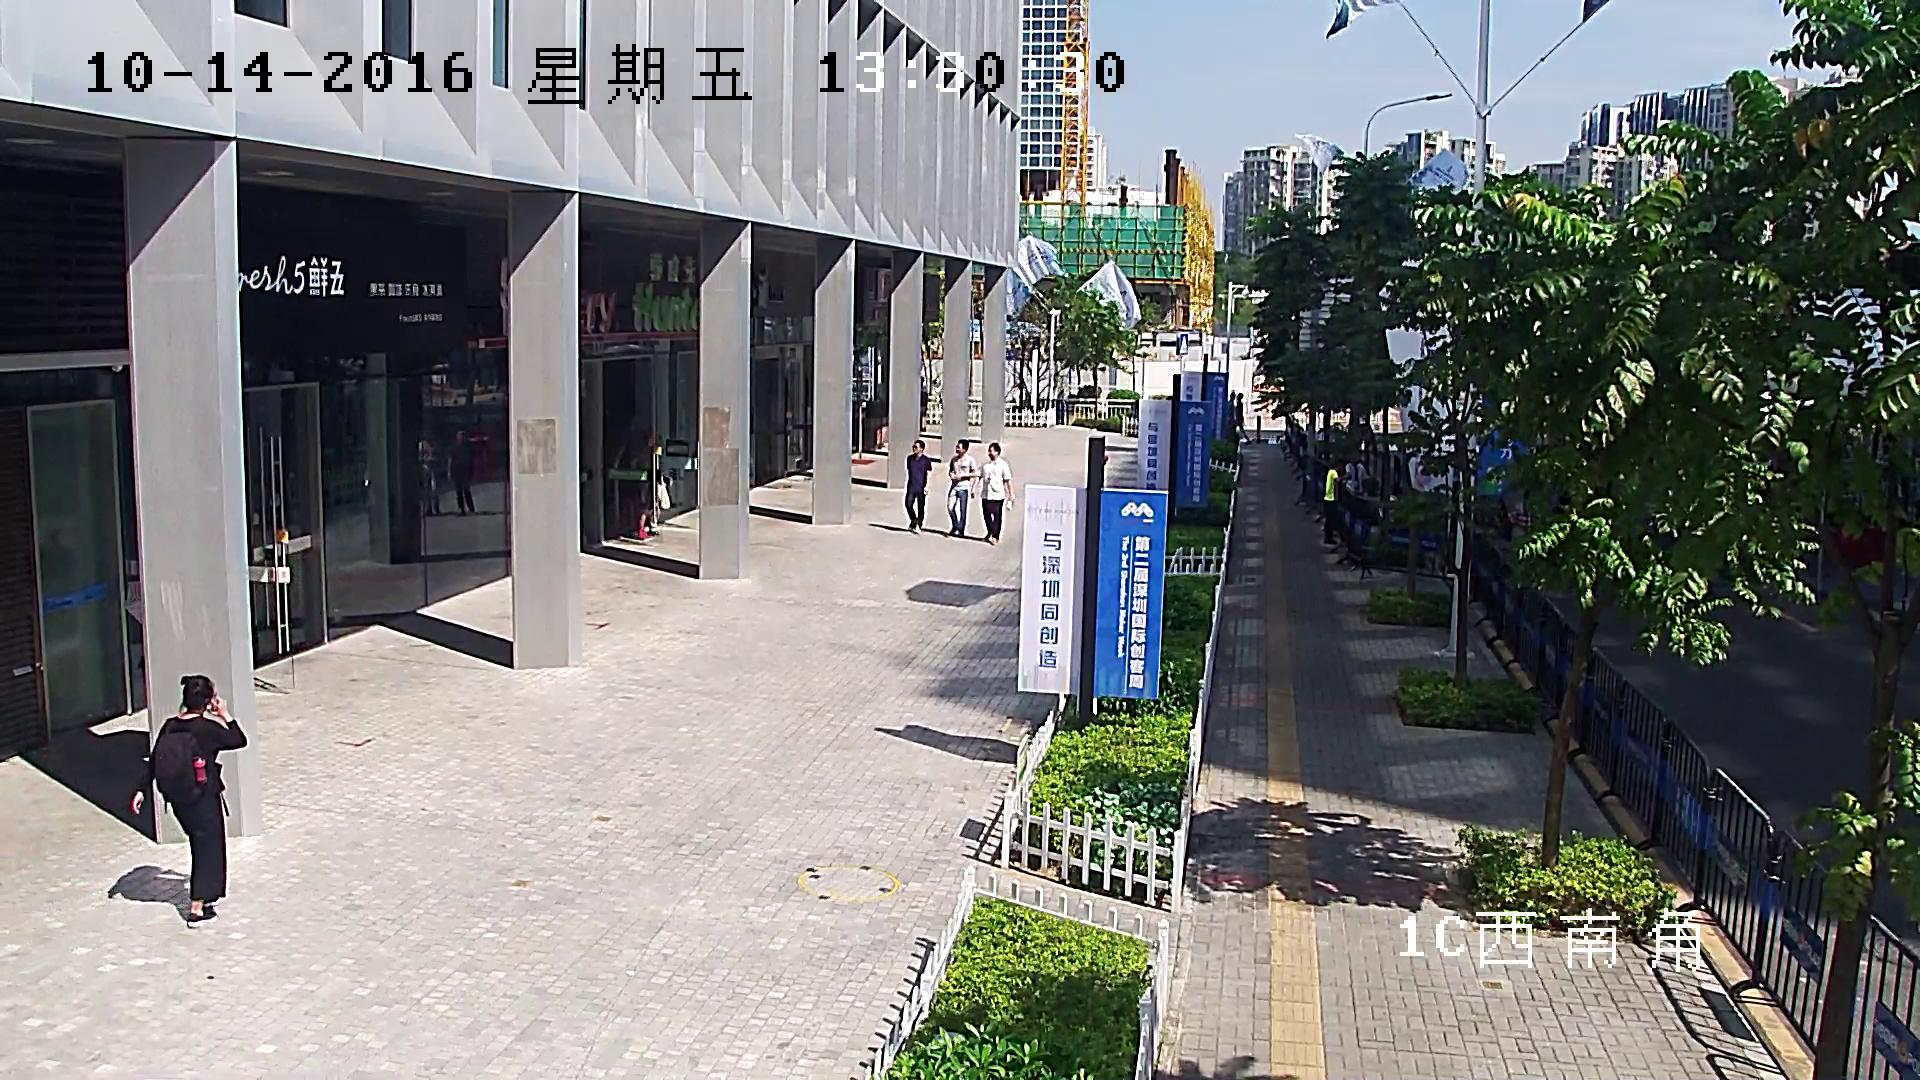person: (131, 675, 246, 927), (970, 442, 1014, 545), (947, 439, 978, 537), (905, 440, 931, 534), (447, 427, 475, 516), (418, 425, 444, 515), (1324, 460, 1343, 544), (1340, 460, 1370, 501), (1233, 393, 1250, 444)
